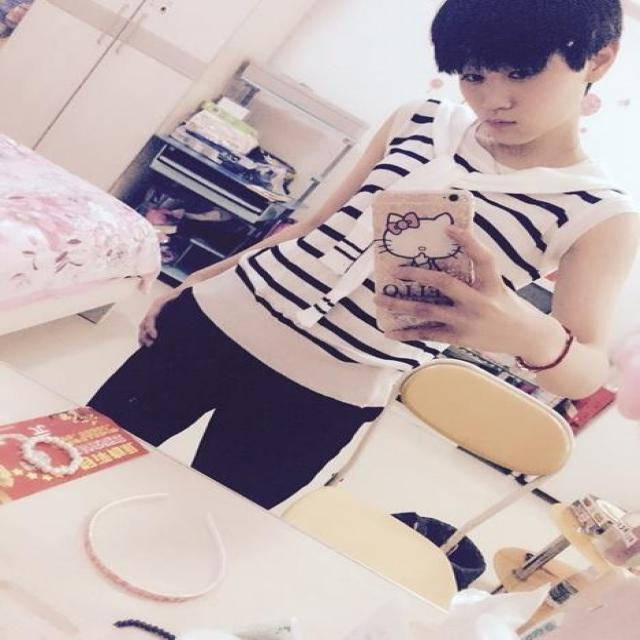trousers: (88, 279, 392, 508)
vest: (190, 102, 632, 409)
